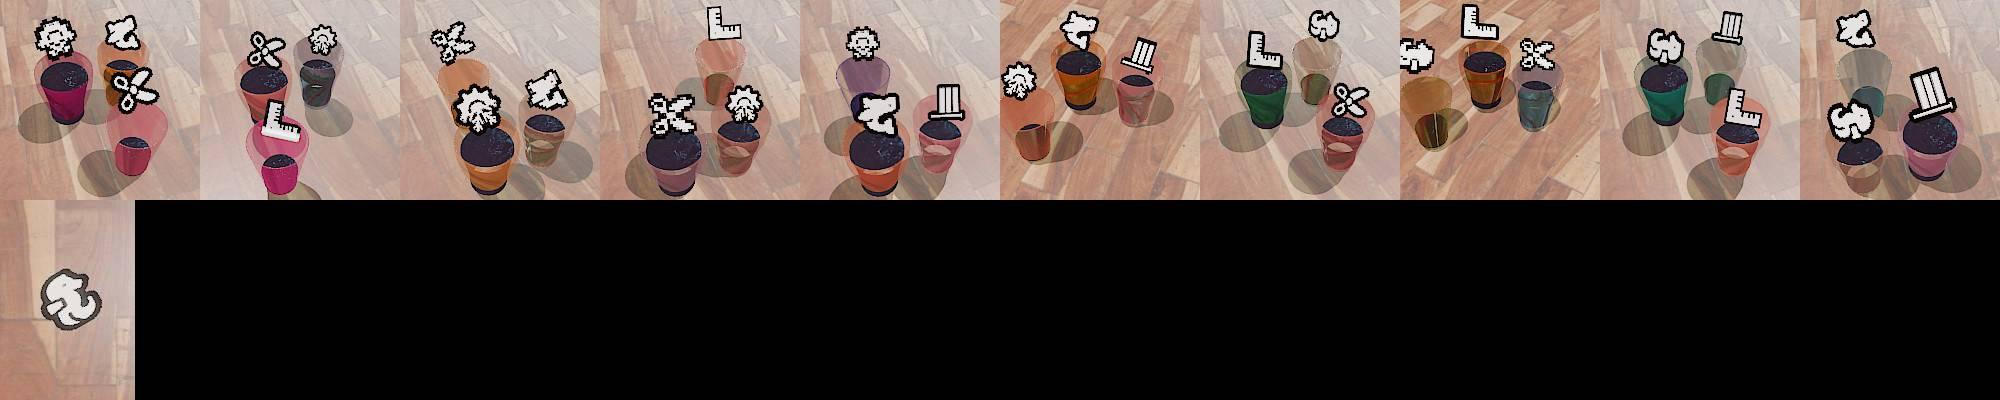icon: (37, 268, 102, 331), (452, 84, 503, 134), (1907, 68, 1957, 117), (112, 66, 161, 115), (648, 90, 698, 136), (430, 19, 477, 65), (1827, 98, 1876, 141), (523, 68, 570, 112), (855, 90, 902, 134), (260, 97, 304, 144), (33, 15, 78, 60), (1723, 87, 1764, 131), (1060, 9, 1099, 54), (723, 83, 764, 125), (1246, 29, 1286, 71), (1459, 3, 1501, 42), (1835, 9, 1875, 48), (246, 31, 287, 69), (1329, 80, 1370, 118), (1121, 36, 1158, 76), (1000, 61, 1038, 99), (103, 14, 142, 51), (1647, 27, 1684, 65), (704, 6, 742, 43), (1399, 37, 1435, 74), (1519, 37, 1557, 71), (1713, 9, 1745, 48), (844, 25, 880, 60), (306, 22, 341, 57), (1306, 9, 1341, 42), (934, 82, 964, 118)
